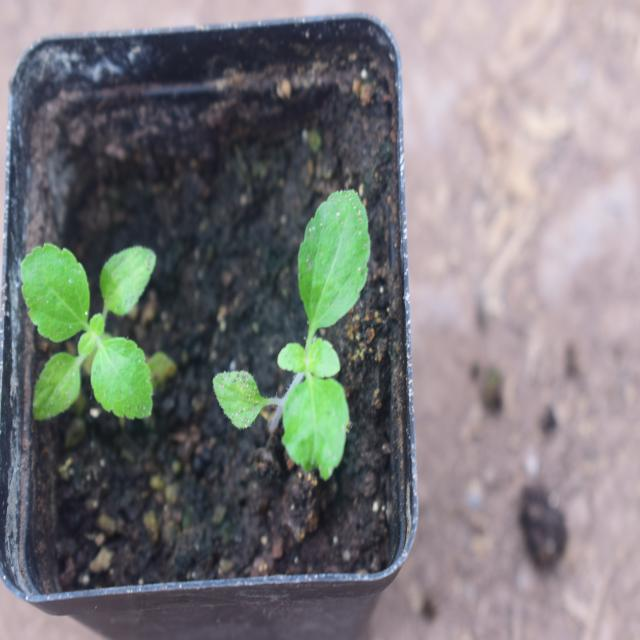billygoat_weed: (232, 183, 395, 484), (12, 214, 172, 446)
